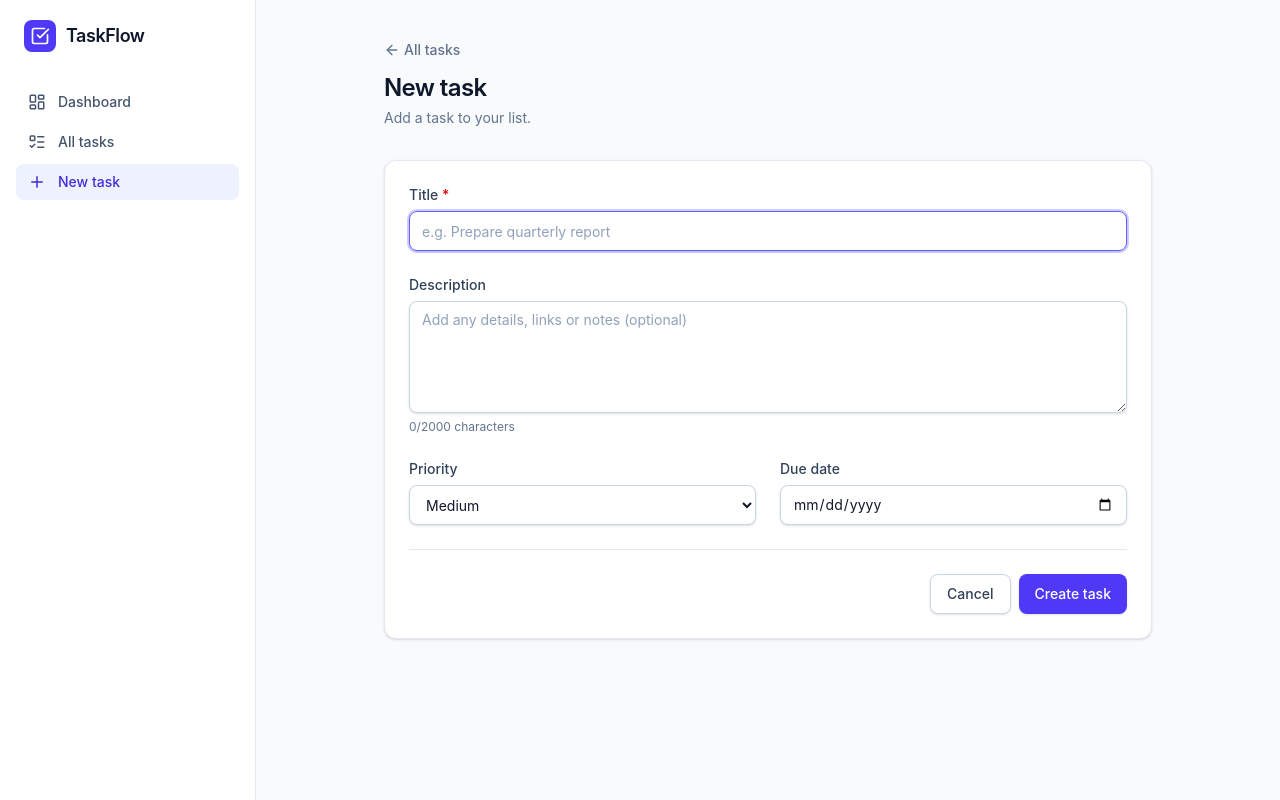
Test case: Create task › creates a task and opens it
Type "Brand new" into the field labelled "Title *" at [768, 231], box [409,211,1127,251]
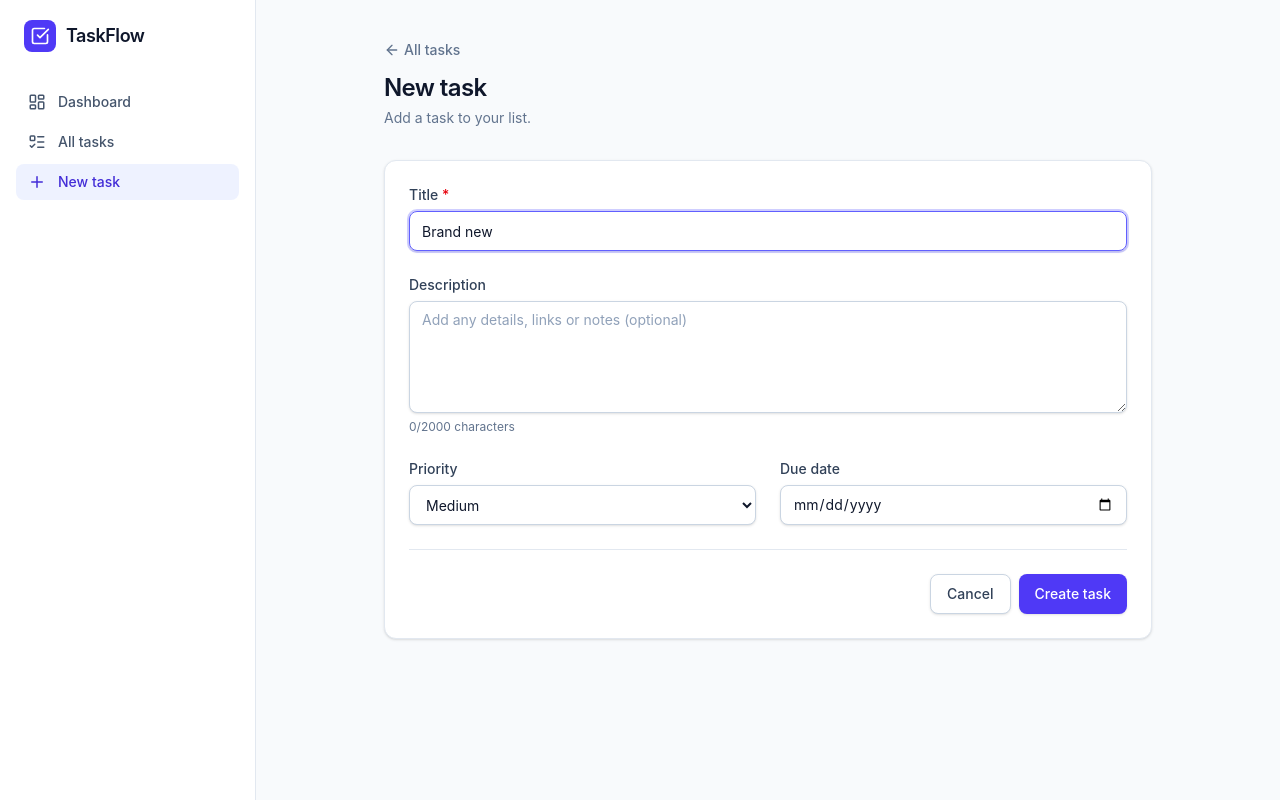
Click the button "Create task" at [1073, 594], box [1018,574,1127,614]
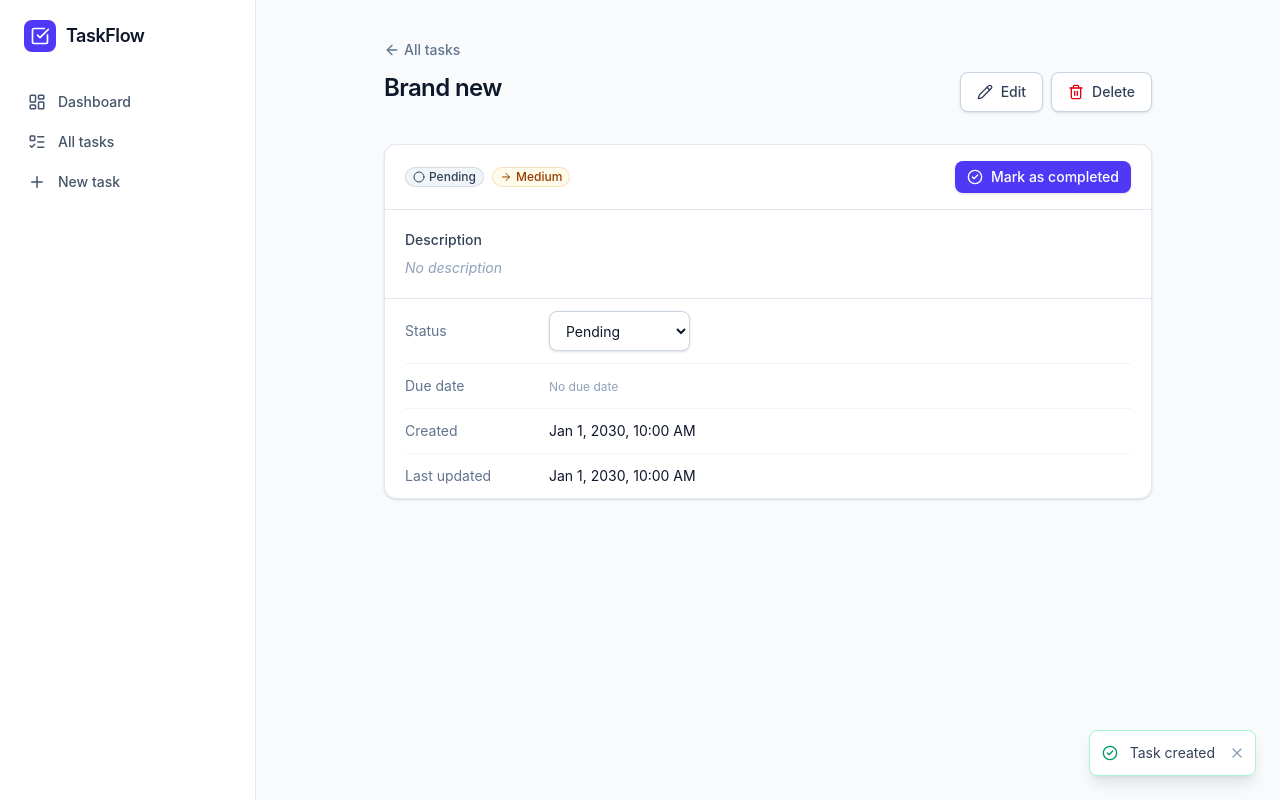
Check: the heading "Brand new" is shown, box [384,72,502,104]
Check: the text "Task created" is shown, box [1130,743,1215,763]
